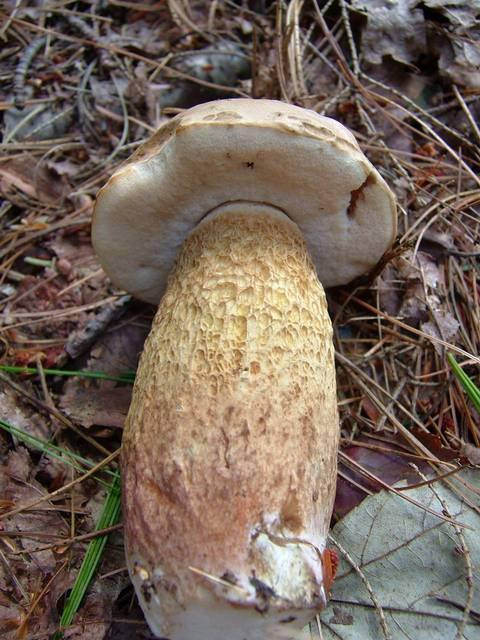Non-edible Mushroom: (89, 96, 399, 638)
